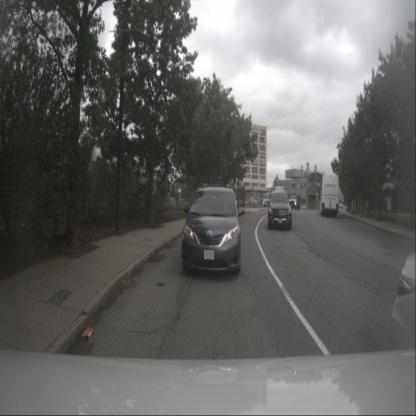vehicle-bus-rigid: (318, 170, 340, 218)
vehicle-car: (181, 184, 241, 278), (268, 190, 292, 232), (262, 193, 271, 208)
vehicle-truck: (288, 195, 300, 210)
